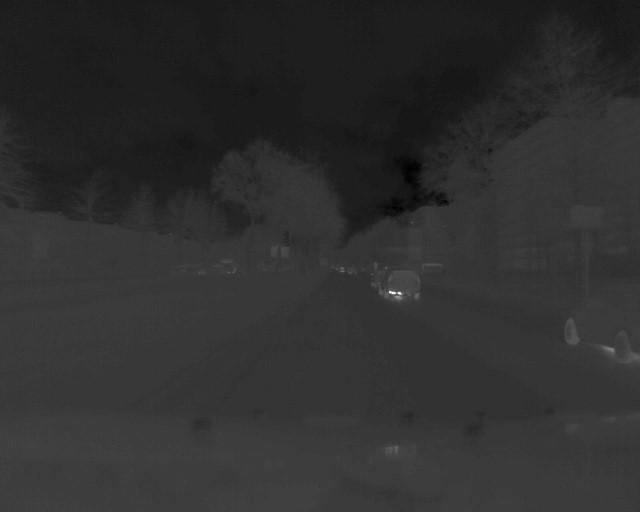car: (561, 290, 640, 368), (376, 268, 424, 300)
